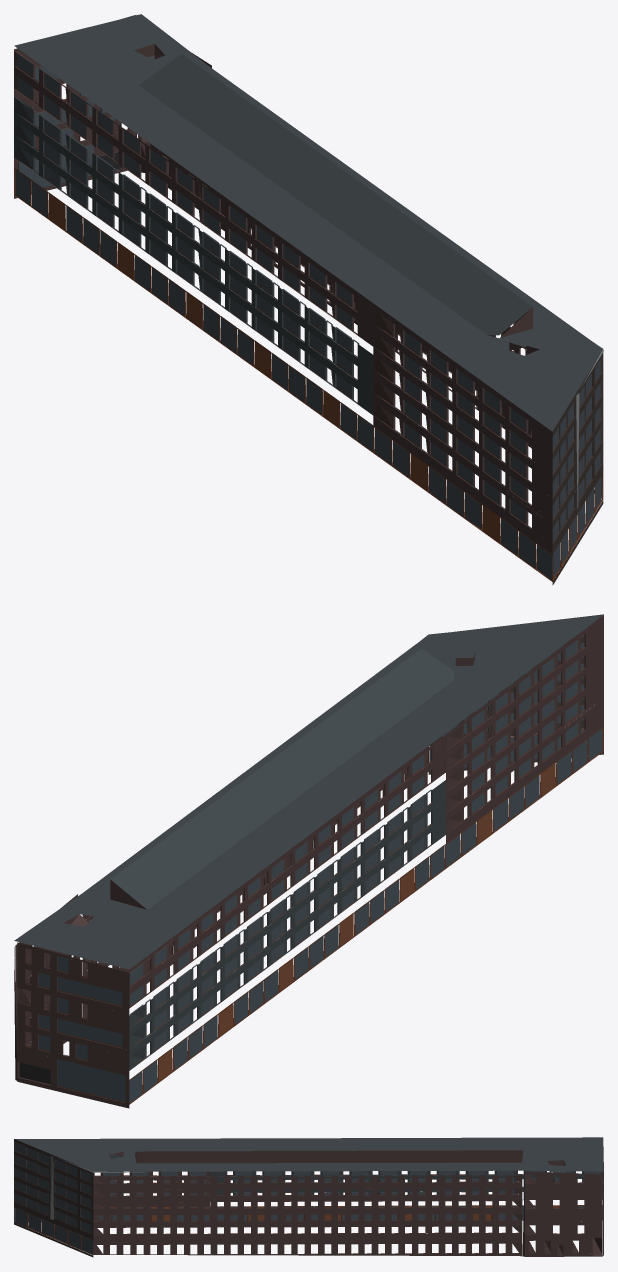
The model's file is panamalaan-10.lod1.glb.
The picture shows the model from 3 angles, top to bottom: view 1: azimuth 30°, elevation 25°; view 2: azimuth 150°, elevation 25°; view 3: azimuth 270°, elevation 25°; orthographic projection. The views are drawn at different scales.
Parts seen in each view (by area): view 1: panamalaan-10; view 2: panamalaan-10; view 3: panamalaan-10.
Boxes of the visible parts, bbox=[...] form: panamalaan-10: bbox=[14, 14, 603, 585]; panamalaan-10: bbox=[14, 614, 603, 1108]; panamalaan-10: bbox=[14, 1137, 603, 1257].
Bounding box in the file's own units: 16.91 × 21.89 × 120.
